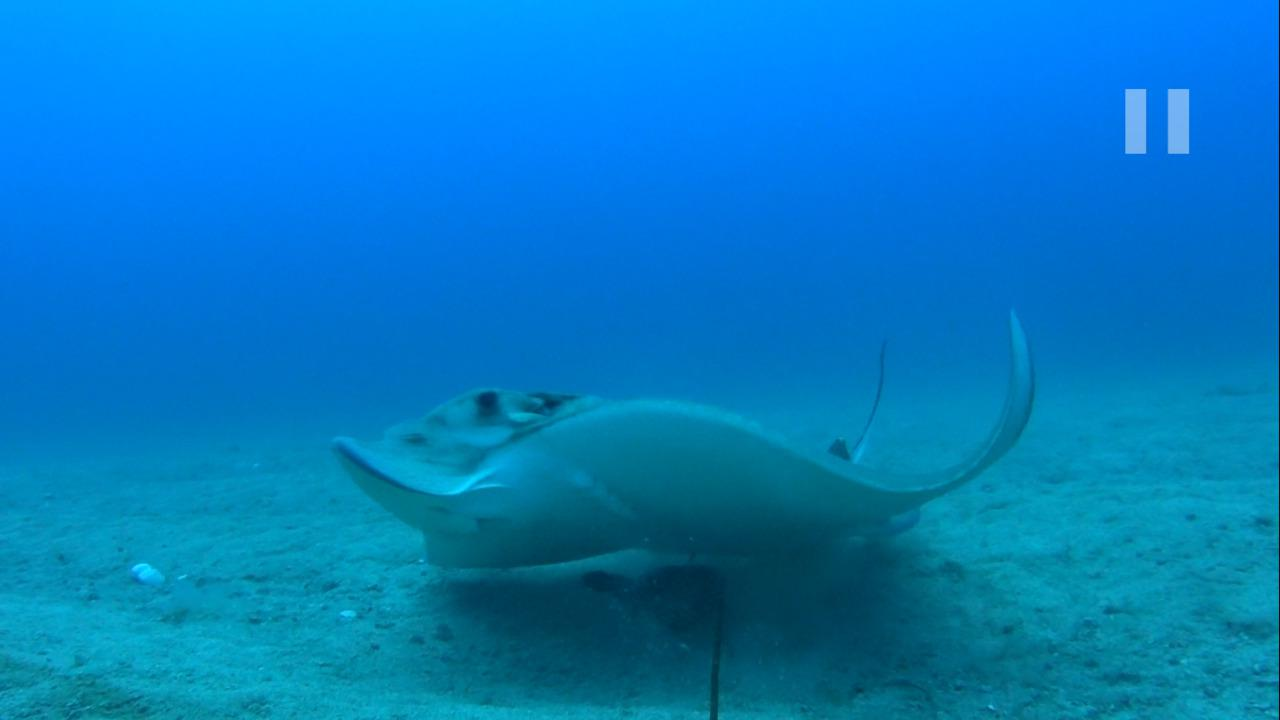myliobatis: (326, 300, 1047, 575)
